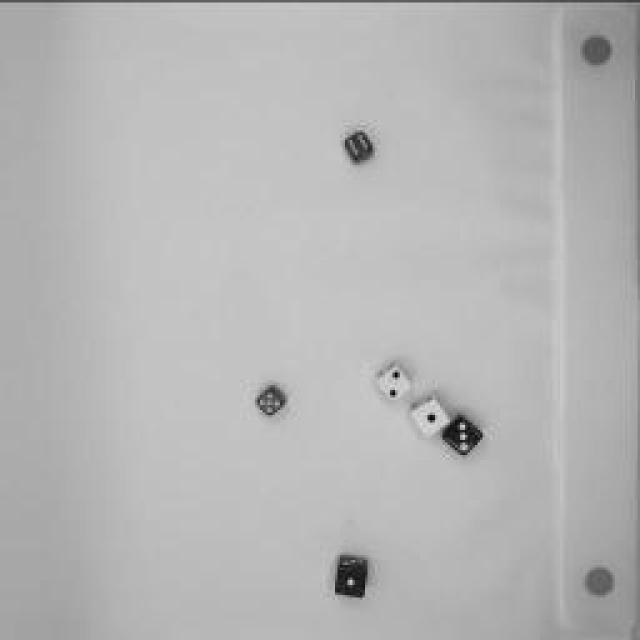dice_1: (404, 390, 454, 440), (328, 552, 372, 602)
dice_2: (371, 363, 419, 405)
dice_3: (439, 414, 491, 456)
dice_5: (252, 380, 292, 420)
dice_6: (336, 128, 379, 170)
